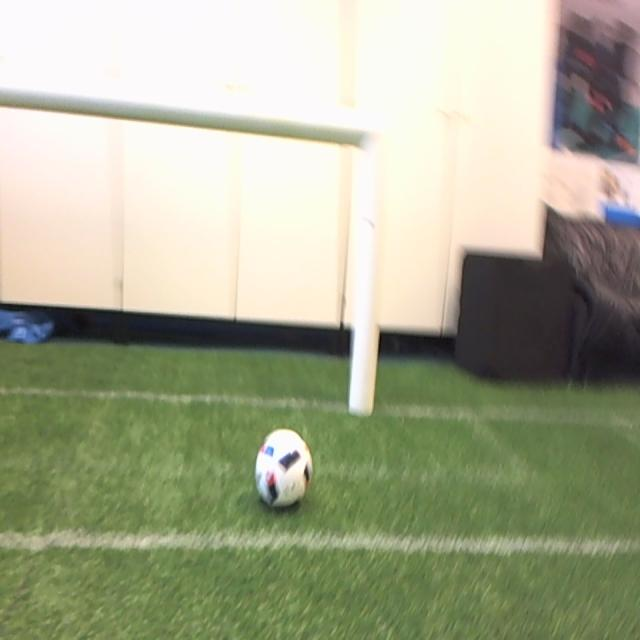ball: (253, 428, 314, 510)
goalpost: (348, 133, 385, 414)
